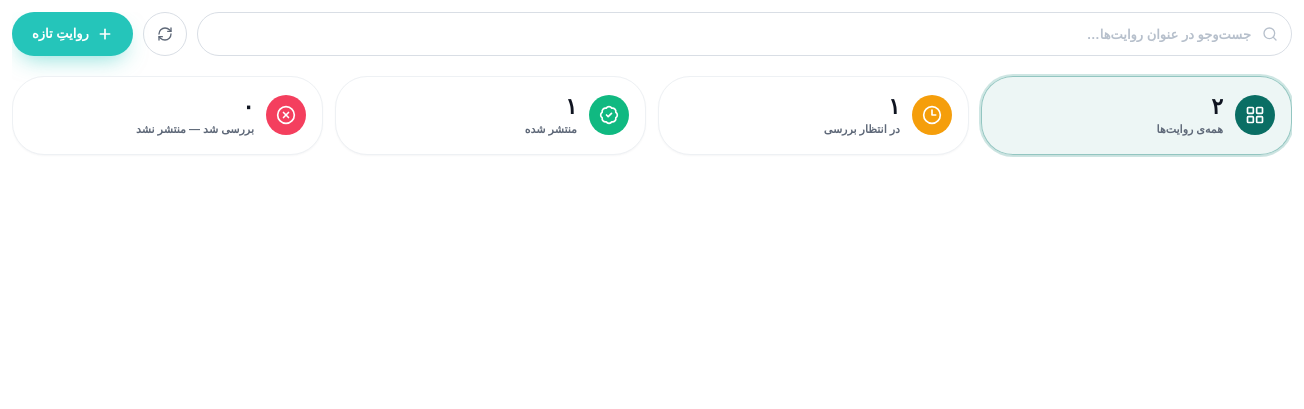
Scenario: MyStoriesManager — گیتِ احراز و فهرست › جست‌وجو روی عنوان، فهرست را زنده محدود می‌کند
In the search field named "جست‌وجو در روایت‌های من": (744, 34) [197,12,1292,56], type "پایانه"
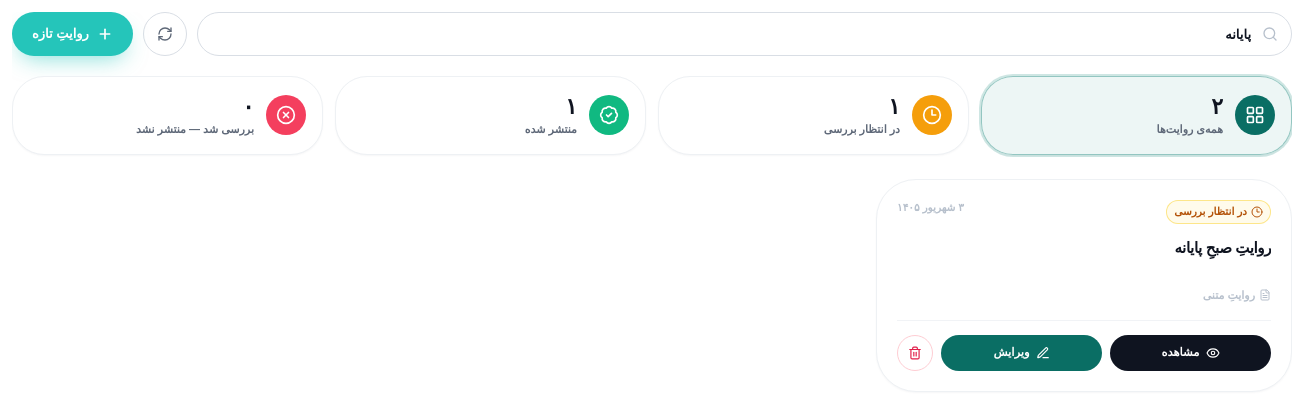
Expected: the heading "روایتِ صبحِ پایانه" is shown, [1174,238,1271,256]
